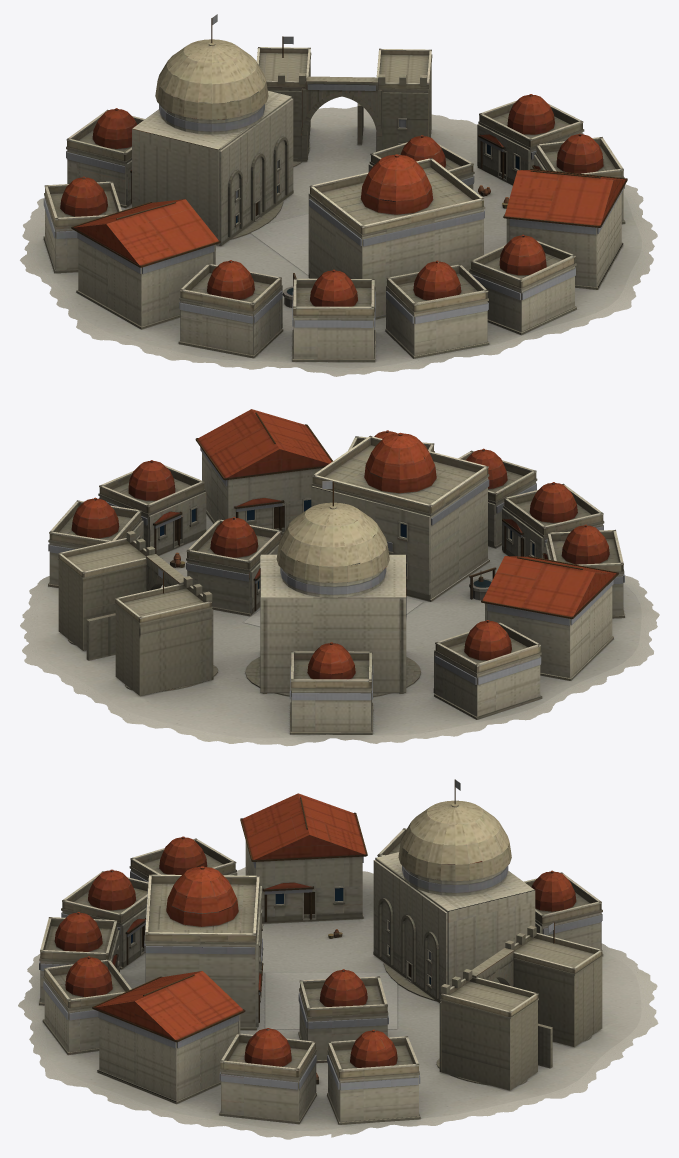
Rendered from gunpowder-town-medium-a-israelite-3c938c63.glb.
The picture shows the model from 3 angles, top to bottom: view 1: azimuth 30°, elevation 25°; view 2: azimuth 150°, elevation 25°; view 3: azimuth 270°, elevation 25°; orthographic projection.
Visible parts, largest first — view 1: LOD0; view 2: LOD0; view 3: LOD0.
Boxes of the visible parts, x1,y1,x2,y2 form: LOD0: (20,14,657,376); LOD0: (20,409,659,746); LOD0: (18,779,658,1139).
Size of what is drawn, in the model's own units: 6.04 by 1.95 by 5.92.
3 materials, 3 textured.
